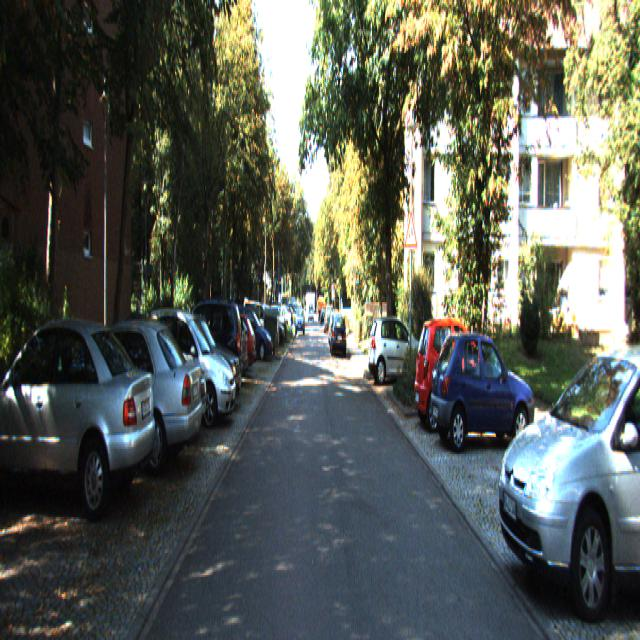Car: (494, 324, 640, 614), (0, 303, 162, 525), (53, 313, 205, 487), (430, 324, 535, 452), (139, 315, 237, 433), (413, 310, 502, 432), (166, 297, 245, 404), (368, 311, 427, 385), (225, 304, 273, 362), (330, 313, 348, 356)
